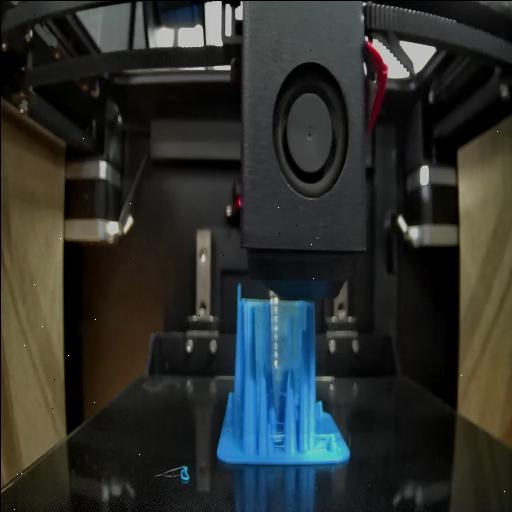stringing: (252, 302, 306, 368), (264, 374, 286, 458)
